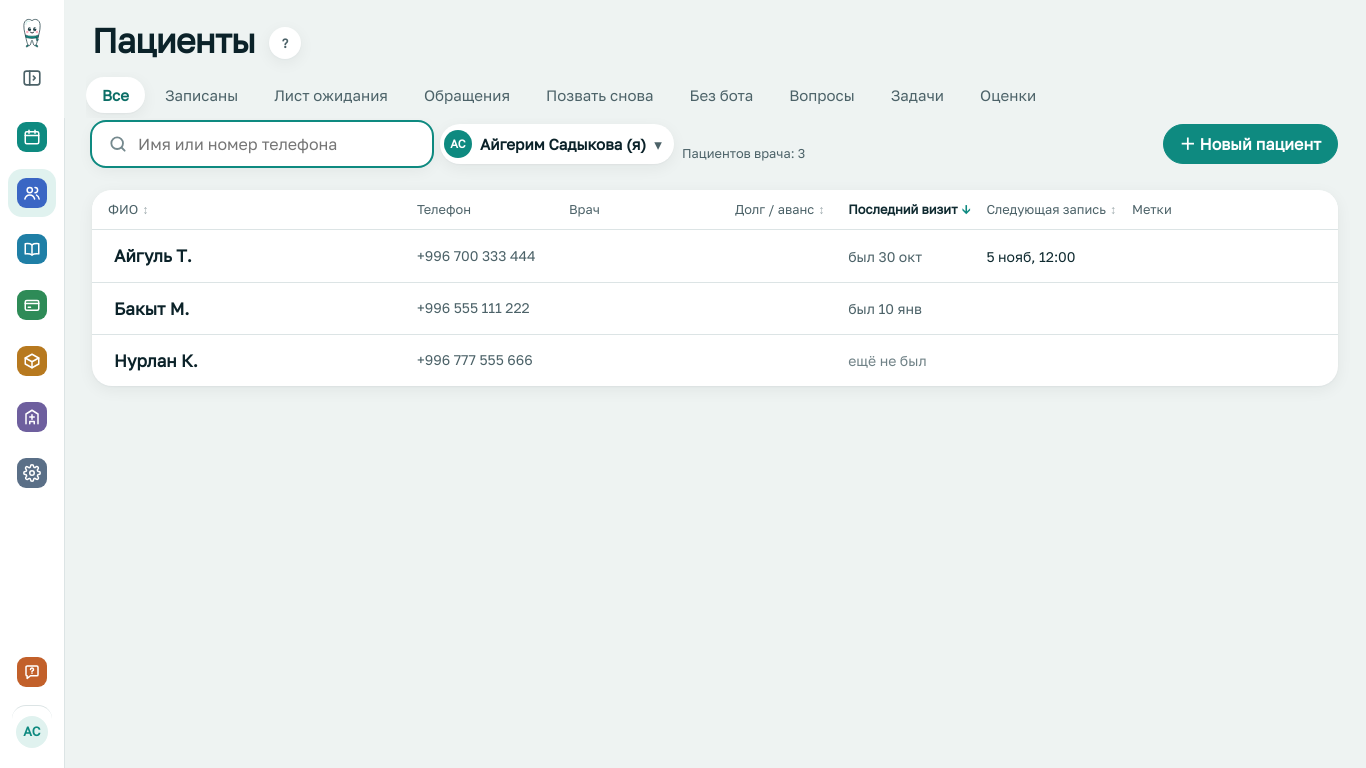
Test: есть совпадение в списке — всё равно спрашиваем сервер и добавляем остальных без повторов
Expected: the button "Айгуль Т." is shown, top-left (114, 243), bottom-right (192, 269)
In the search field named "Поиск пациента": [262, 144] box top-left (92, 122), bottom-right (432, 166), type "бакыт"
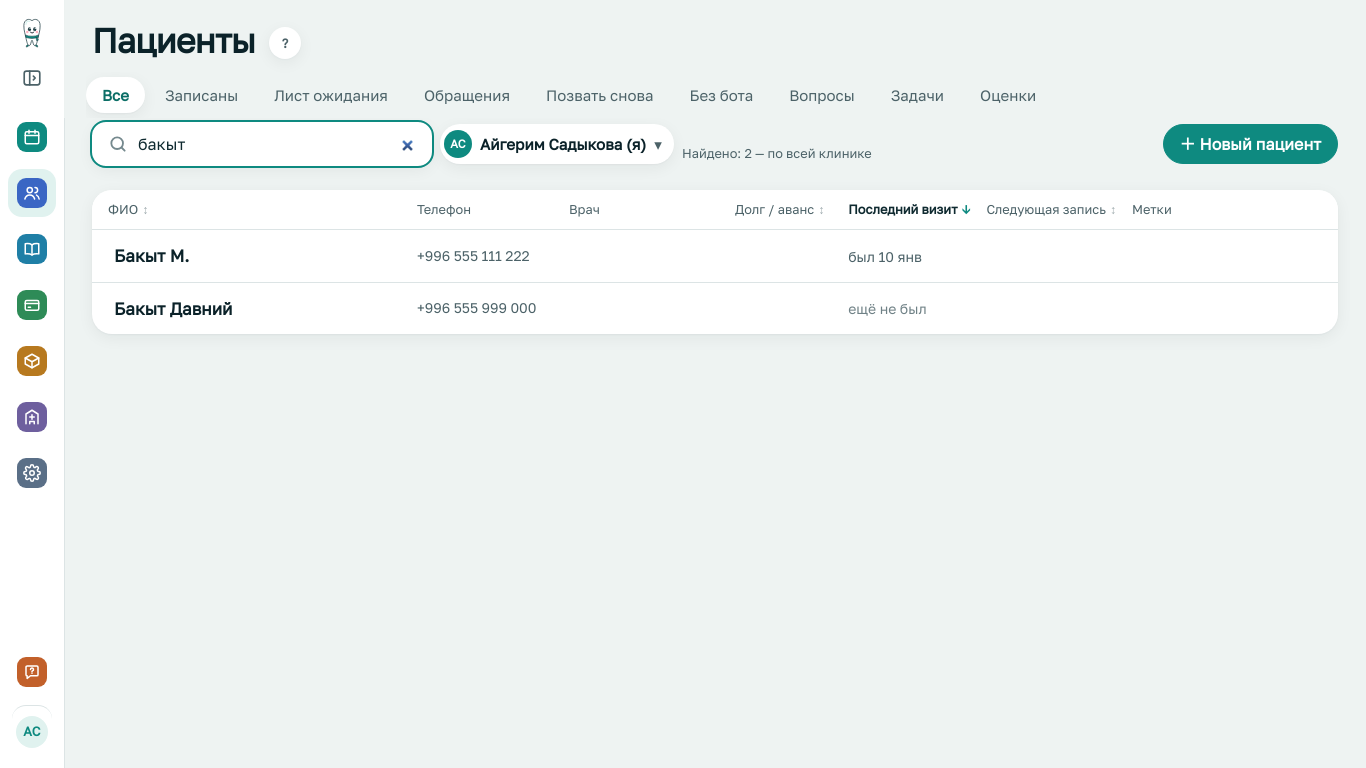
Result: the button "Бакыт Давний" is shown at top-left (114, 296), bottom-right (232, 321)
